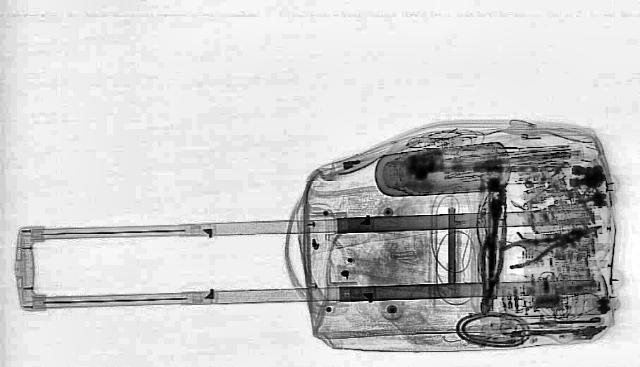Pliers: (489, 216, 615, 270)
